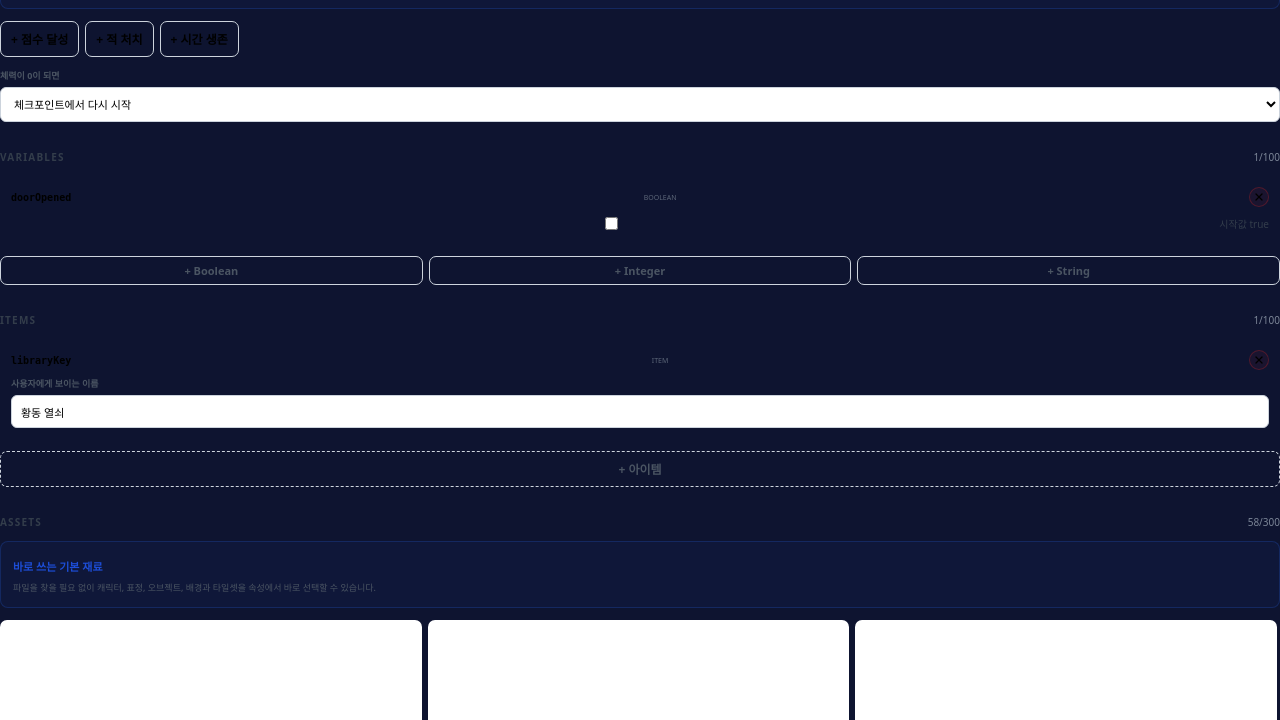
Test case: ProjectDataPanel — 아이템 삭제(S15P21A604-565) › 사용 중인 아이템(libraryKey)은 삭제 전에 PICKUP·이벤트 사용 위치를 보여준다
(page scrolled)
Click the button named "libraryKey 삭제" at (1259, 360), box [1249,350,1269,370]
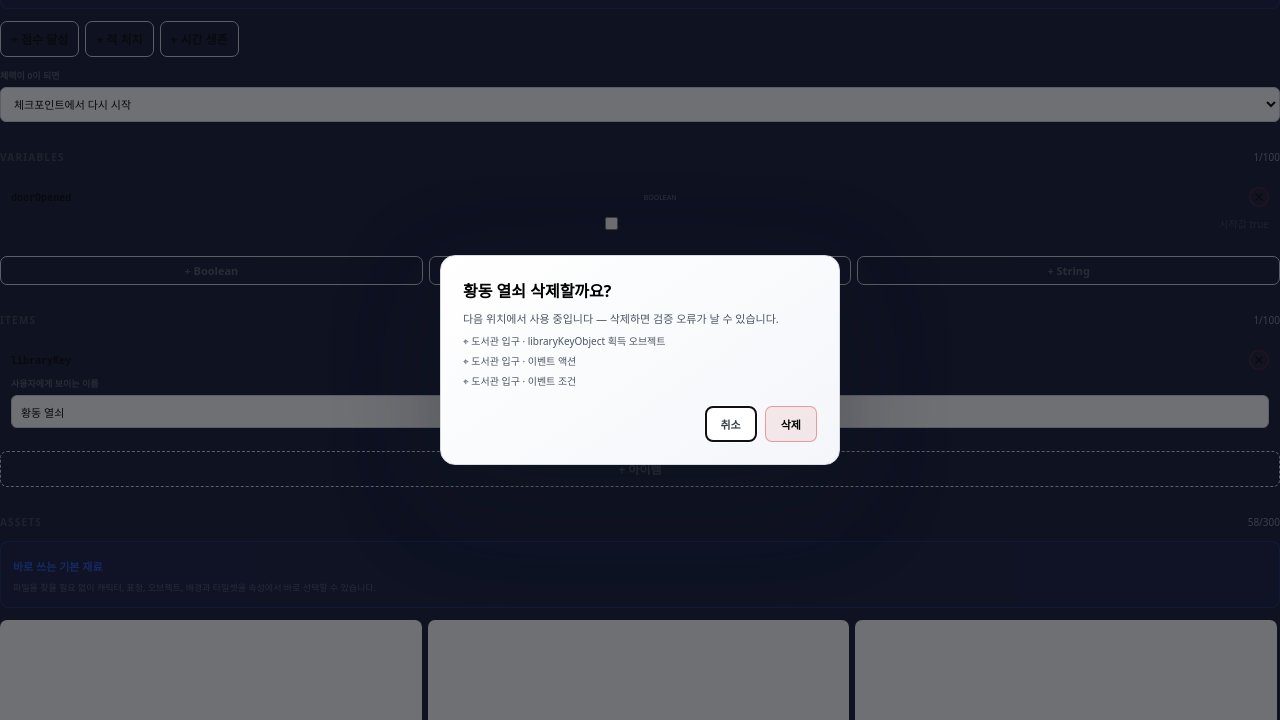
expect the text "다음 위치에서 사용 중입니다 — 삭제하면 검증 오류가 날 수 있습니다." is shown: met, box [463,310,817,328]
